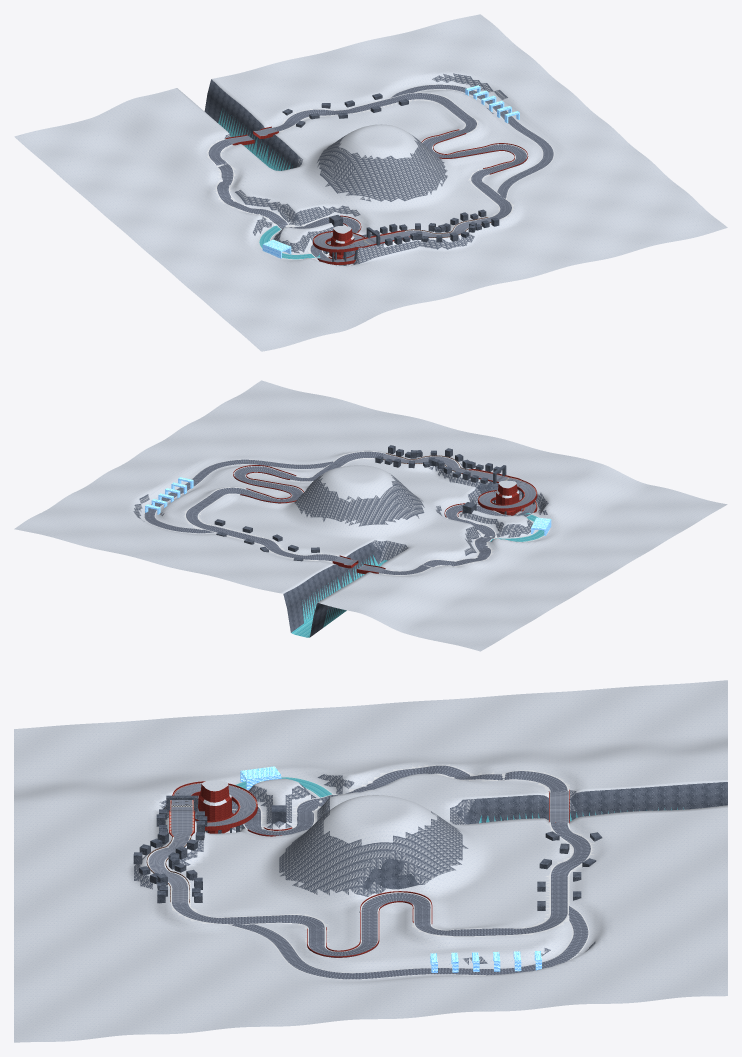
The picture shows the model from 3 angles, top to bottom: view 1: azimuth 30°, elevation 25°; view 2: azimuth 150°, elevation 25°; view 3: azimuth 270°, elevation 25°; orthographic projection. The views are drawn at different scales.
Parts seen in each view (by area): view 1: Land, Buildings, Frozen Supply Road, Road 04 cliff, Caverns, Road 05 road, Road 11 road, Road 15 spiral, Road 06 road, Road 03 road, Road 12 road; view 2: Land, Buildings, Frozen Supply Road, Road 04 cliff, Road 15 spiral, Road 05 road, Road 06 road, Caverns, Road 03 road, Road 11 road, Bastion, Road 12 road (+1 smaller); view 3: Land, Buildings, Frozen Supply Road, Road 04 cliff, Road 06 road, Road 05 road, Road 11 road, Caverns, Road 03 road, Road 15 spiral, Road 02 village, Bastion (+2 smaller).
Part boxes in pixels (bbox=[...]): Land: bbox=[14, 14, 727, 351]; Buildings: bbox=[282, 93, 499, 245]; Frozen Supply Road: bbox=[390, 84, 554, 199]; Road 04 cliff: bbox=[421, 129, 528, 174]; Caverns: bbox=[262, 85, 519, 258]; Road 05 road: bbox=[386, 92, 477, 133]; Road 11 road: bbox=[207, 139, 235, 203]; Road 15 spiral: bbox=[312, 231, 364, 264]; Road 06 road: bbox=[272, 99, 392, 131]; Road 03 road: bbox=[470, 169, 512, 219]; Road 12 road: bbox=[226, 201, 329, 229]; Land: bbox=[14, 380, 727, 651]; Buildings: bbox=[214, 445, 506, 561]; Frozen Supply Road: bbox=[143, 459, 333, 533]; Road 04 cliff: bbox=[233, 465, 303, 503]; Road 15 spiral: bbox=[478, 480, 537, 512]; Road 05 road: bbox=[185, 487, 245, 532]; Road 06 road: bbox=[221, 528, 338, 561]; Caverns: bbox=[145, 477, 551, 535]; Road 03 road: bbox=[290, 451, 385, 481]; Road 11 road: bbox=[379, 556, 488, 575]; Bastion: bbox=[495, 480, 521, 515]; Road 12 road: bbox=[447, 517, 495, 557]; Land: bbox=[14, 680, 727, 1042]; Buildings: bbox=[133, 795, 602, 910]; Frozen Supply Road: bbox=[228, 904, 589, 979]; Road 04 cliff: bbox=[307, 891, 432, 957]; Road 06 road: bbox=[549, 822, 592, 902]; Road 05 road: bbox=[413, 902, 568, 936]; Road 11 road: bbox=[410, 765, 568, 792]; Caverns: bbox=[240, 766, 541, 972]; Road 03 road: bbox=[170, 902, 325, 929]; Road 15 spiral: bbox=[172, 781, 257, 830]; Road 02 village: bbox=[146, 835, 191, 903]; Bastion: bbox=[198, 780, 233, 833].
Bounding box in the file's own units: 740 × 108 × 680.
15 materials, 15 textured.
